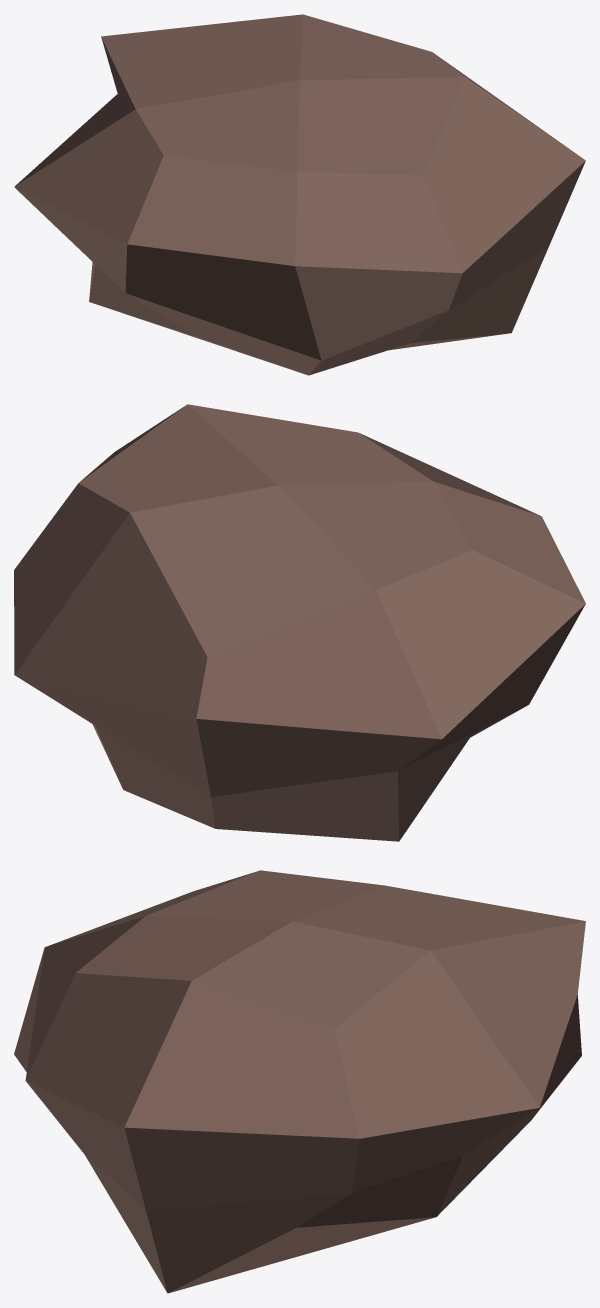
Rendered from stone_4.fbx.
3 views of the same model, one above another, from view 1: azimuth 30°, elevation 25°; view 2: azimuth 150°, elevation 25°; view 3: azimuth 270°, elevation 25° (orthographic). The views are drawn at different scales.
Visible parts, largest first — view 1: stone03.003; view 2: stone03.003; view 3: stone03.003.
Part boxes in pixels (box(x1,y1,x2,y2)): stone03.003: box(14, 14, 585, 375); stone03.003: box(14, 404, 585, 841); stone03.003: box(14, 870, 585, 1293).
Bounding box in the file's own units: 1429 × 900 × 1454.
